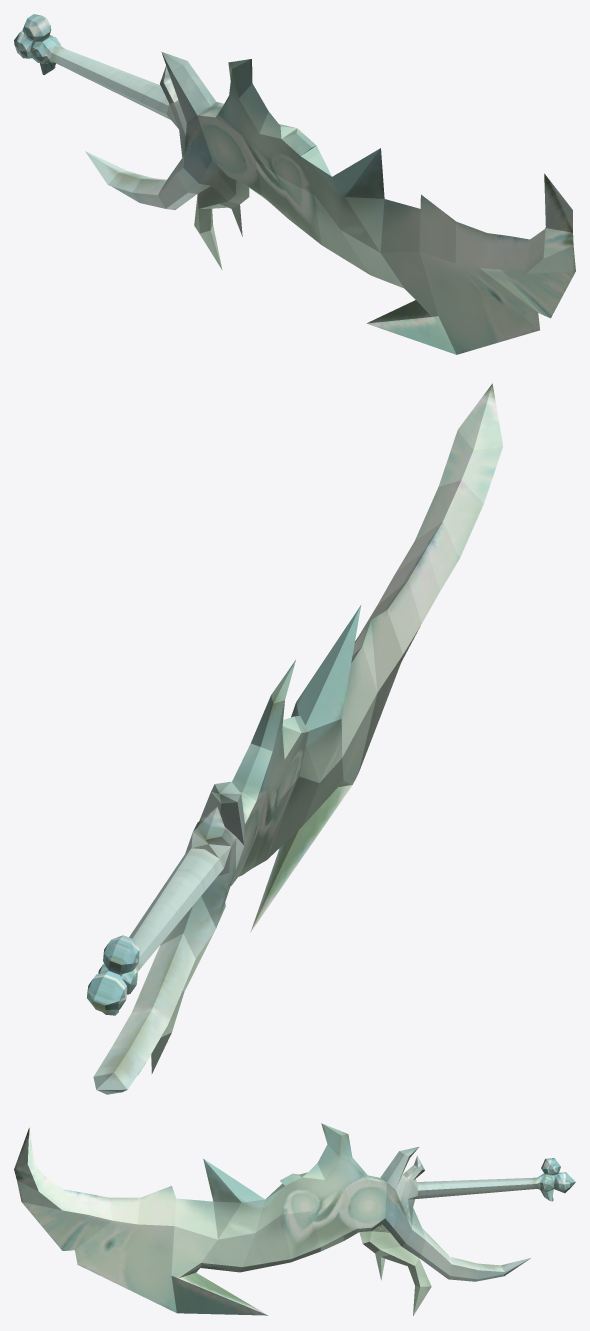
The model's file is body.fbx.
The picture shows the model from 3 angles, top to bottom: view 1: azimuth 30°, elevation 25°; view 2: azimuth 150°, elevation 25°; view 3: azimuth 270°, elevation 25°; orthographic projection. The views are drawn at different scales.
Visible parts, largest first — view 1: body; view 2: body; view 3: body.
Boxes of the visible parts, x1,y1,x2,y2 form: body: [14, 14, 575, 354]; body: [87, 383, 503, 1094]; body: [14, 1123, 575, 1315].
Bounding box in the file's own units: 1.07 × 1.93 × 4.91.
1 material, 1 textured.
